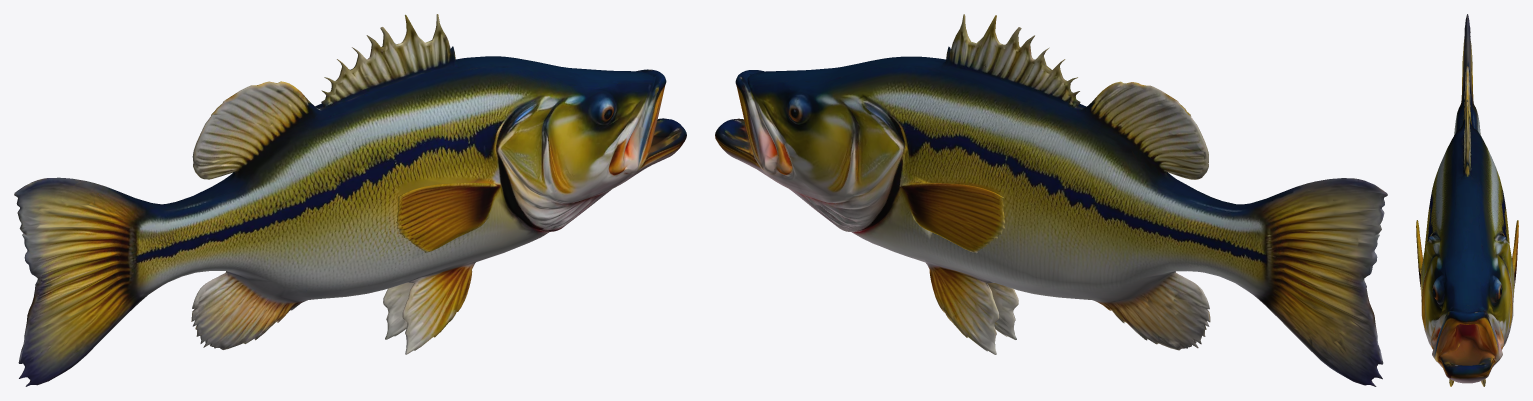
Rendered from largemouth-bass.glb.
3 renders of one model, left to right at view 1: azimuth 30°, elevation 25°; view 2: azimuth 150°, elevation 25°; view 3: azimuth 270°, elevation 25°, orthographic. The views are drawn at different scales.
Parts seen in each view (by area): view 1: material; view 2: material; view 3: material.
Part boxes in pixels (left/top/right/bottom): material: left=14, top=14, right=686, bottom=386; material: left=715, top=14, right=1387, bottom=386; material: left=1416, top=14, right=1518, bottom=386.
Size of the model in its own units: 1.16 by 0.5499 by 0.182.
Materials: 1 (1 with a texture image).
